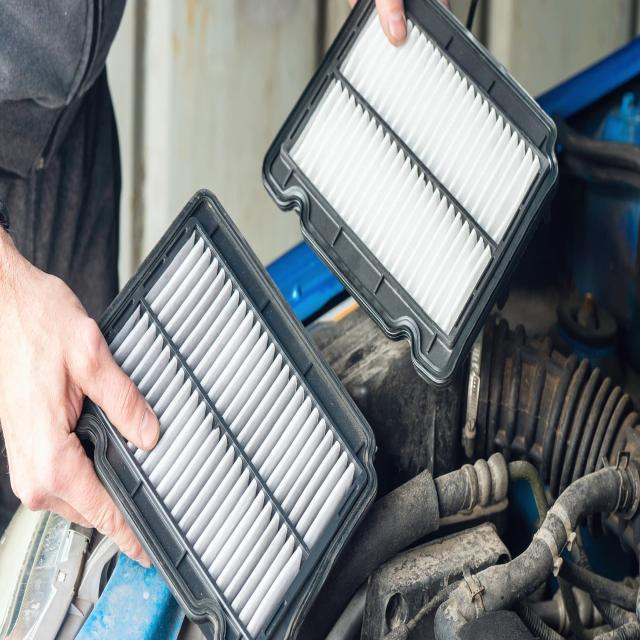air_filter: (75, 190, 383, 639), (263, 0, 565, 386)
